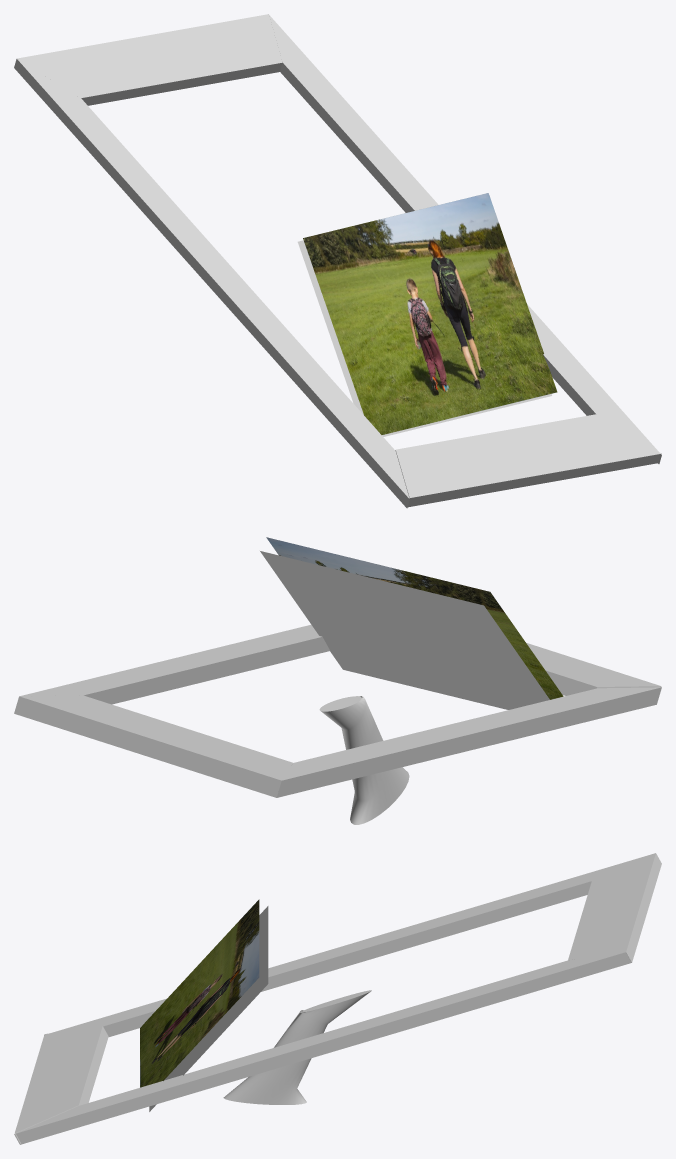
Rendered from Psycho-Photo.FBX.
3 views of the same model, one above another, from view 1: azimuth 30°, elevation 25°; view 2: azimuth 150°, elevation 25°; view 3: azimuth 270°, elevation 25° (orthographic). The views are drawn at different scales.
Parts seen in each view (by area): view 1: Cone001, Plane002, Plane001; view 2: Cone001, Plane001, Plane002; view 3: Cone001, Plane002, Plane001.
Boxes of the visible parts, x1,y1,x2,y2 form: Cone001: (14,14,661,508); Plane002: (303,193,557,434); Plane001: (297,240,551,436); Cone001: (14,624,661,824); Plane001: (260,551,549,709); Plane002: (266,537,563,699); Cone001: (14,853,661,1144); Plane002: (140,899,259,1087); Plane001: (149,906,268,1111).
Size of the model in its own units: 74.28 by 56.53 by 175.
